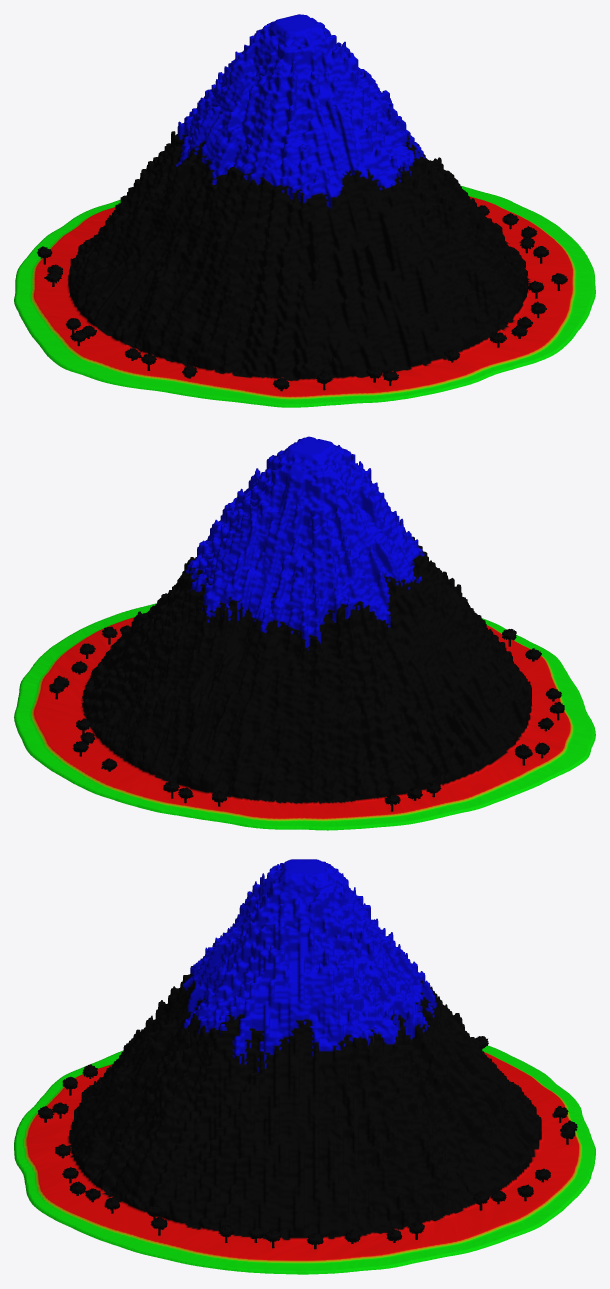
File: Mountain.glb
The picture shows the model from 3 angles, top to bottom: view 1: azimuth 30°, elevation 25°; view 2: azimuth 150°, elevation 25°; view 3: azimuth 270°, elevation 25°; orthographic projection. The views are drawn at different scales.
Visible parts, largest first — view 1: Mountain; view 2: Mountain; view 3: Mountain.
Part boxes in pixels (box(x1,y1,x2,y2)): Mountain: box(14, 14, 595, 407); Mountain: box(14, 436, 595, 830); Mountain: box(14, 859, 595, 1274).
Bounding box in the file's own units: 249 × 123 × 235.
